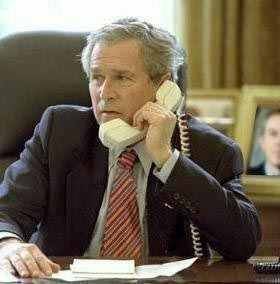person: (1, 18, 265, 284)
